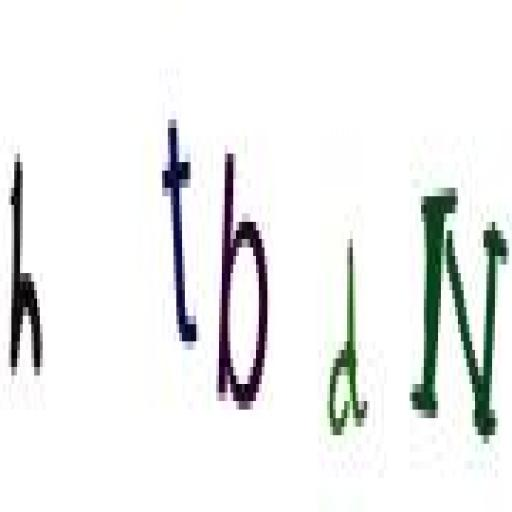N: (410, 176, 508, 452)
b: (212, 133, 271, 428)
d: (321, 225, 370, 456)
h: (4, 140, 48, 397)
t: (156, 101, 205, 364)
